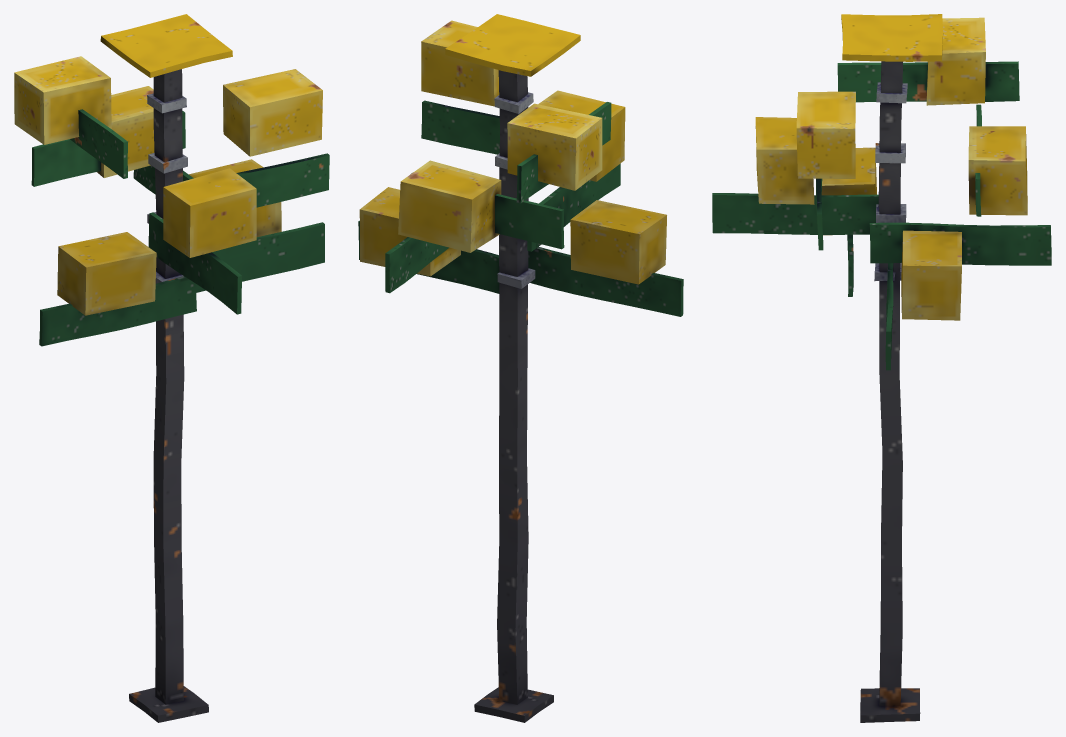
The model's file is ScrapTreeSignpost.glb.
3 renders of one model, left to right at view 1: azimuth 30°, elevation 25°; view 2: azimuth 150°, elevation 25°; view 3: azimuth 270°, elevation 25°, orthographic.
Parts seen in each view (by area): view 1: WarningSigns, StreetSigns, Post, Clamps; view 2: WarningSigns, StreetSigns, Post, Clamps; view 3: WarningSigns, StreetSigns, Post, Clamps.
Boxes of the visible parts, x1,y1,x2,y2 form: WarningSigns: [14, 14, 322, 315]; StreetSigns: [31, 109, 329, 346]; Post: [129, 69, 208, 722]; Clamps: [147, 93, 187, 283]; WarningSigns: [359, 14, 666, 284]; StreetSigns: [358, 100, 683, 316]; Post: [474, 70, 553, 722]; Clamps: [494, 92, 535, 288]; WarningSigns: [755, 14, 1027, 320]; StreetSigns: [712, 61, 1051, 370]; Post: [860, 61, 920, 722]; Clamps: [874, 82, 907, 281].
Size of the model in its own units: 4.33 by 9.11 by 4.14.
4 materials, 4 textured.
